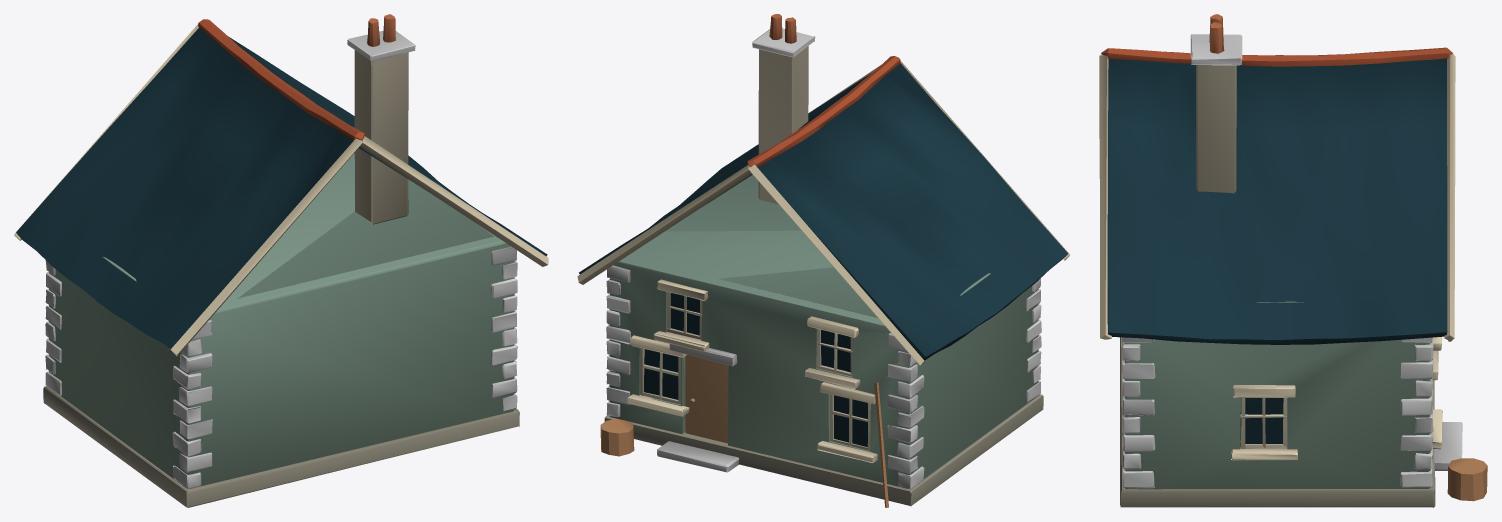
File: house_2.glb
3 views of the same model, side by side, from view 1: azimuth 30°, elevation 25°; view 2: azimuth 150°, elevation 25°; view 3: azimuth 270°, elevation 25° (orthographic). The views are drawn at different scales.
Visible parts, largest first — view 1: house_2; view 2: house_2; view 3: house_2.
Boxes of the visible parts, box(x1,y1,x2,y2) form: house_2: box(14, 14, 548, 507); house_2: box(577, 14, 1069, 507); house_2: box(1099, 14, 1487, 507).
Size of the model in its own units: 7.17 by 7.26 by 5.84.
